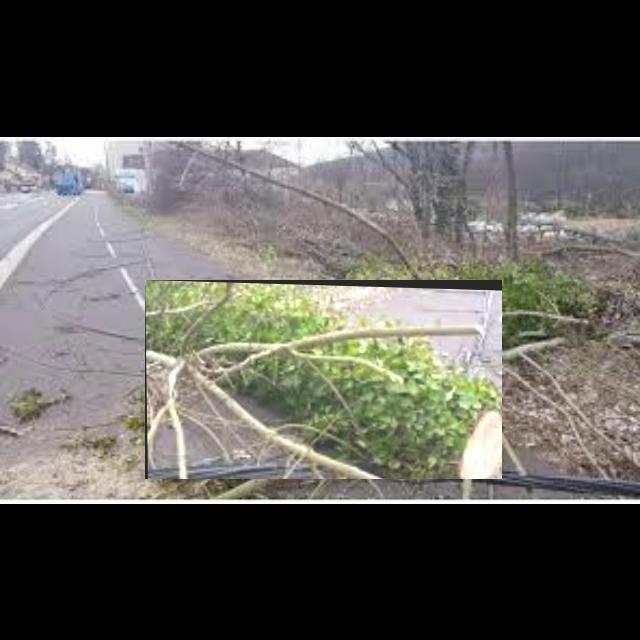fallen_tree: (145, 280, 503, 480)
